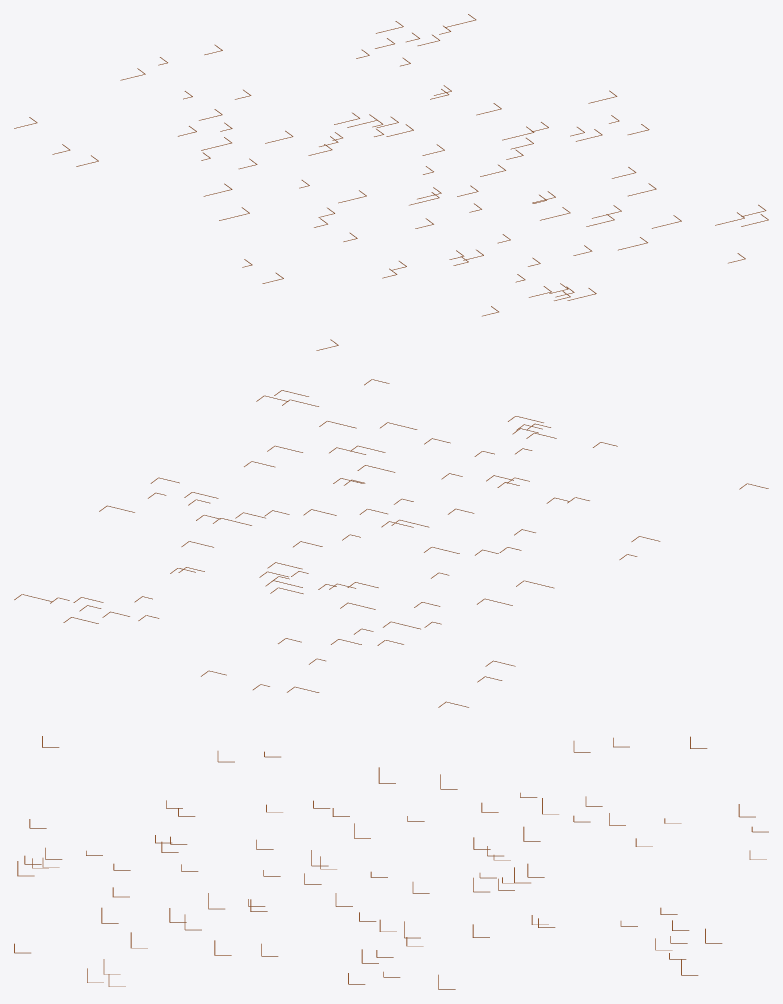
3 renders of one model, top to bottom at view 1: azimuth 30°, elevation 25°; view 2: azimuth 150°, elevation 25°; view 3: azimuth 270°, elevation 25°, orthographic. The views are drawn at different scales.
Parts seen in each view (by area): view 1: LAYER_06__Copper; view 2: LAYER_06__Copper; view 3: LAYER_06__Copper.
Boxes of the visible parts, box(x1,y1,x2,y2) form: LAYER_06__Copper: box(14, 14, 768, 350); LAYER_06__Copper: box(14, 379, 768, 707); LAYER_06__Copper: box(14, 736, 768, 989).
Bounding box in the file's own units: 214 × 0.09 × 269.
